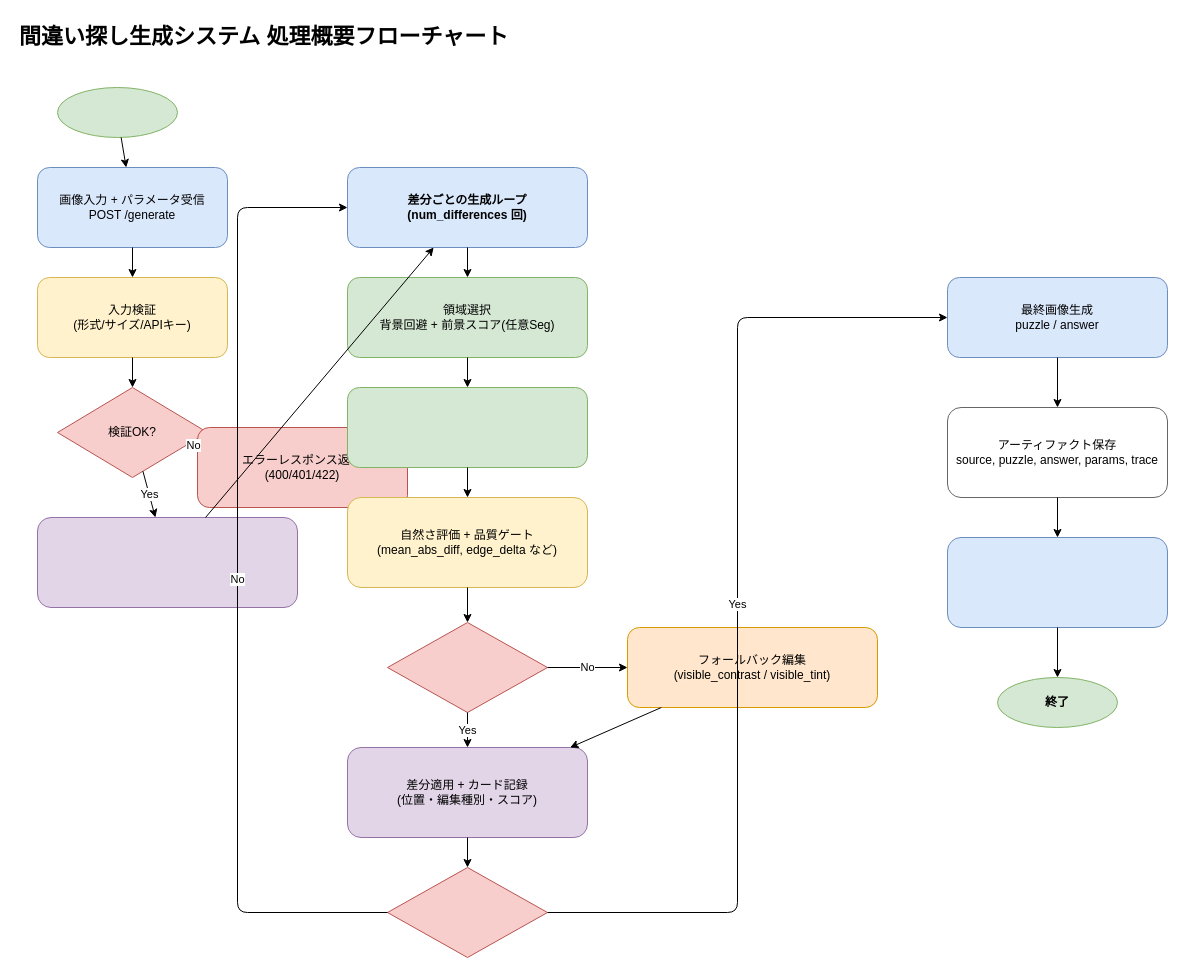
Image size: 1185x975. Some labels were removed from this diagram. The centre of each missing label's shape, as x and y in pixels:
"レスポンス返却 base64画像 + positions + trace情報" goes at point 1057,582.
"全差分完了?" goes at point 467,912.
"前処理 画像ロード・seed設定・trace初期化" goes at point 167,562.
"品質ゲート通過?" goes at point 467,667.
"編集候補生成 brightness/color/contrast/shift/flip" goes at point 467,427.
"開始" goes at point 117,112.
